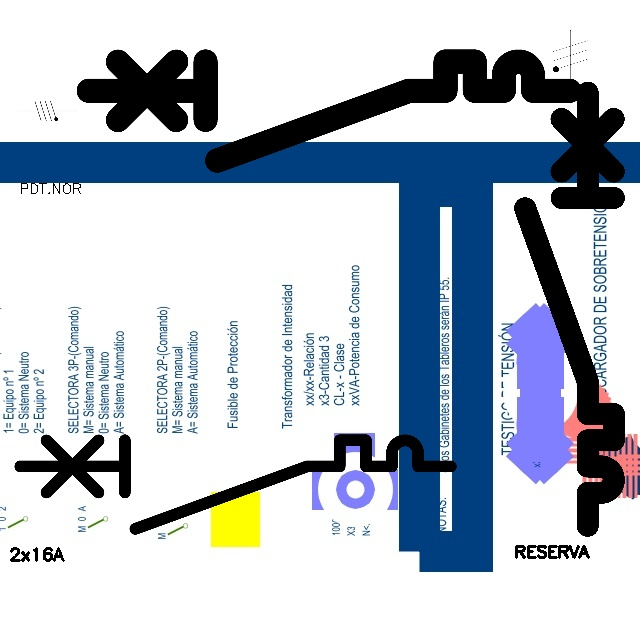interruptor_termomagnetico: (76, 49, 582, 173), (514, 81, 625, 537), (9, 429, 462, 540)
